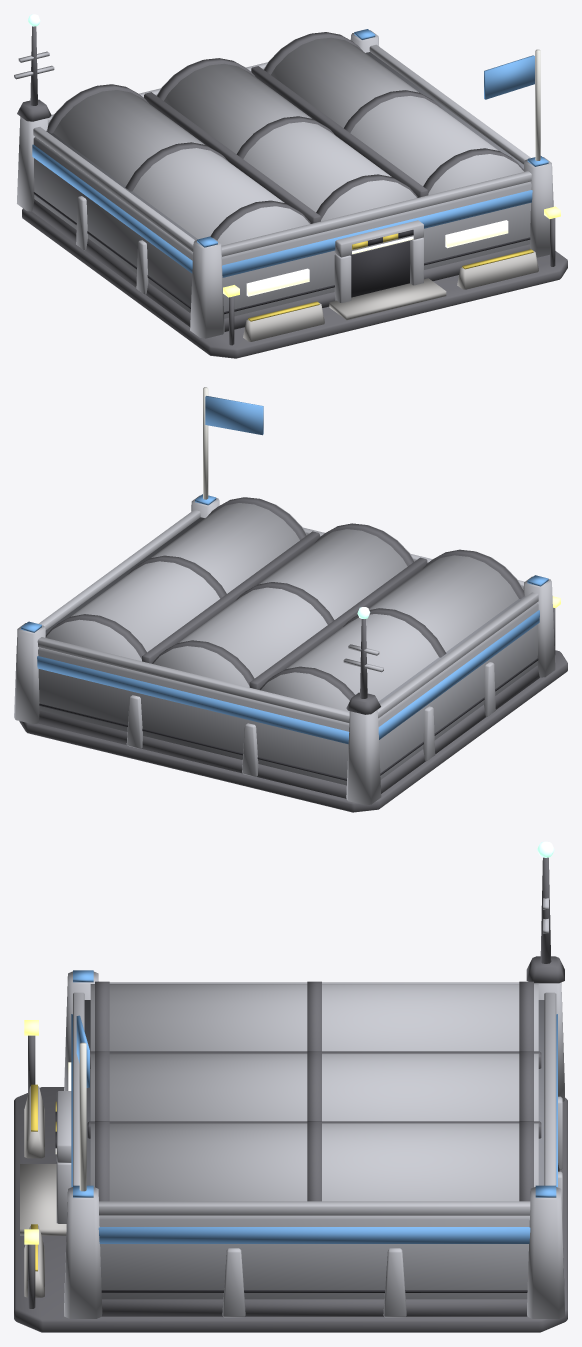
Rendered from barracks.glb.
3 views of the same model, one above another, from view 1: azimuth 30°, elevation 25°; view 2: azimuth 150°, elevation 25°; view 3: azimuth 270°, elevation 25° (orthographic). The views are drawn at different scales.
Visible parts, largest first — view 1: body; view 2: body; view 3: body.
Boxes of the visible parts, x1=… form: body: x1=14, y1=14, x2=567, y2=358; body: x1=14, y1=387, x2=567, y2=812; body: x1=14, y1=841, x2=567, y2=1332.
Bounding box in the file's own units: 1.9 × 1.08 × 1.88.
